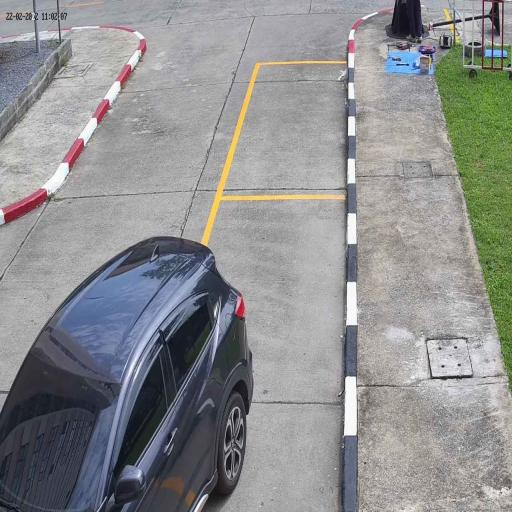car: (0, 237, 254, 512)
